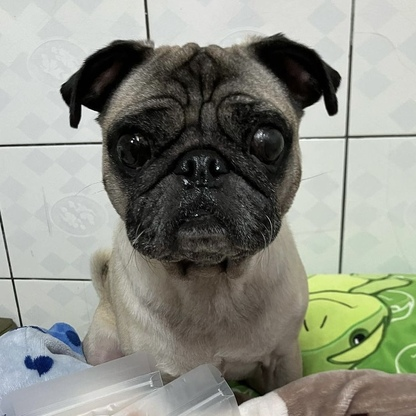Pug: (57, 28, 344, 400)
